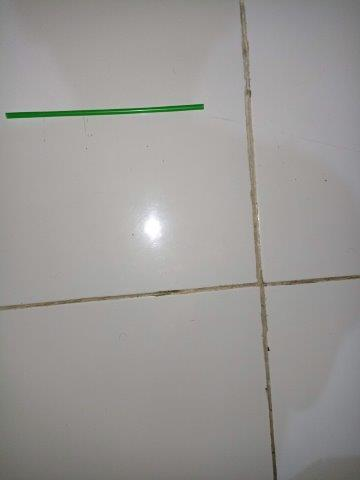sedotan: (6, 104, 205, 119)
